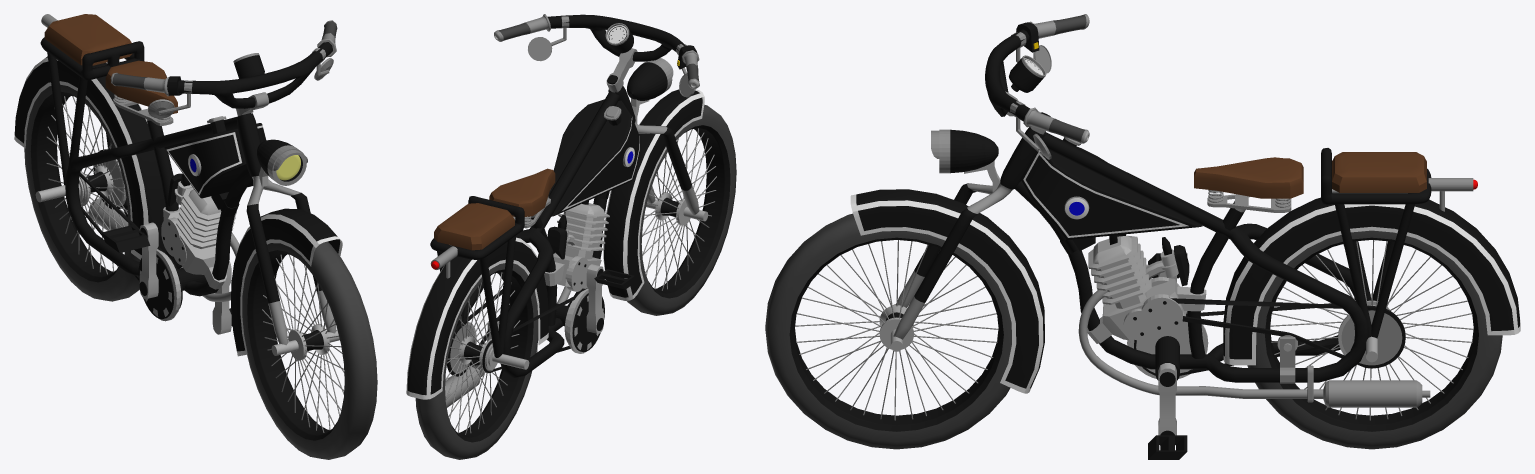
Rendered from Morellete3_v1.fbx.
The picture shows the model from 3 angles, left to right: view 1: azimuth 30°, elevation 25°; view 2: azimuth 150°, elevation 25°; view 3: azimuth 270°, elevation 25°; orthographic projection. The views are drawn at different scales.
Parts seen in each view (by area): view 1: Cylinder3, Cylinder, Cylinder1, Cube.034, Cylinder2, Cube.027, Cube.009, pCylinder4, Cube.036, pCube3, pCube40, pCube19 (+21 smaller); view 2: Cylinder3, Cylinder, Cylinder1, Cylinder2, Cube.034, Cube.027, pCube3, Cube.009, pCylinder4, pCylinder5, pCube29, Cube.005 (+23 smaller); view 3: Cylinder3, Cylinder1, Cylinder, Cylinder2, Cube.017, Cube.025, pCylinder23, Cube.009, pCylinder4, pCube3, Cylinder.006, Cube.005 (+18 smaller).
Boxes of the visible parts, x1,y1,x2,y2 form: Cylinder3: [242, 241, 377, 459]; Cylinder: [24, 84, 140, 301]; Cylinder1: [14, 56, 166, 259]; Cube.034: [65, 117, 252, 296]; Cylinder2: [231, 208, 342, 356]; Cube.027: [164, 128, 246, 198]; Cube.009: [163, 187, 236, 289]; pCylinder4: [262, 254, 344, 432]; Cube.036: [236, 114, 288, 345]; pCube3: [44, 14, 132, 65]; pCube40: [110, 72, 268, 108]; pCube19: [139, 222, 231, 334]; Cylinder3: [627, 104, 736, 315]; Cylinder: [415, 263, 538, 459]; Cylinder1: [406, 236, 548, 399]; Cylinder2: [603, 89, 704, 300]; Cube.034: [500, 92, 619, 377]; Cube.027: [551, 100, 639, 216]; pCube3: [434, 203, 514, 250]; Cube.009: [544, 203, 609, 286]; pCylinder4: [642, 128, 716, 290]; pCylinder5: [445, 272, 520, 434]; pCube29: [494, 14, 634, 56]; Cube.005: [489, 168, 555, 216]; Cylinder3: [765, 213, 1011, 449]; Cylinder1: [1223, 197, 1520, 365]; Cylinder: [1247, 230, 1502, 449]; Cylinder2: [850, 189, 1044, 393]; Cube.017: [1015, 133, 1368, 382]; Cube.025: [1020, 150, 1202, 239]; pCylinder23: [1078, 290, 1430, 407]; Cube.009: [1087, 235, 1206, 343]; pCylinder4: [795, 240, 998, 420]; pCube3: [1332, 152, 1426, 192]; Cylinder.006: [1170, 298, 1405, 368]; Cube.005: [1194, 157, 1303, 198].
Size of the model in its own units: 7.66 by 11.5 by 20.21.
